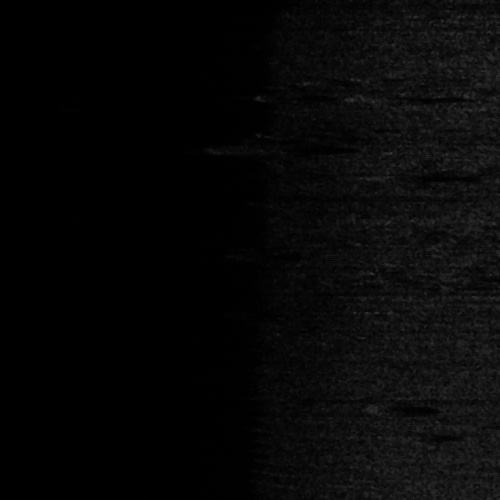object: (345, 94, 408, 99), (372, 173, 435, 178), (377, 403, 408, 412)
shadow: (392, 403, 457, 412), (377, 94, 476, 99), (403, 173, 494, 178)
